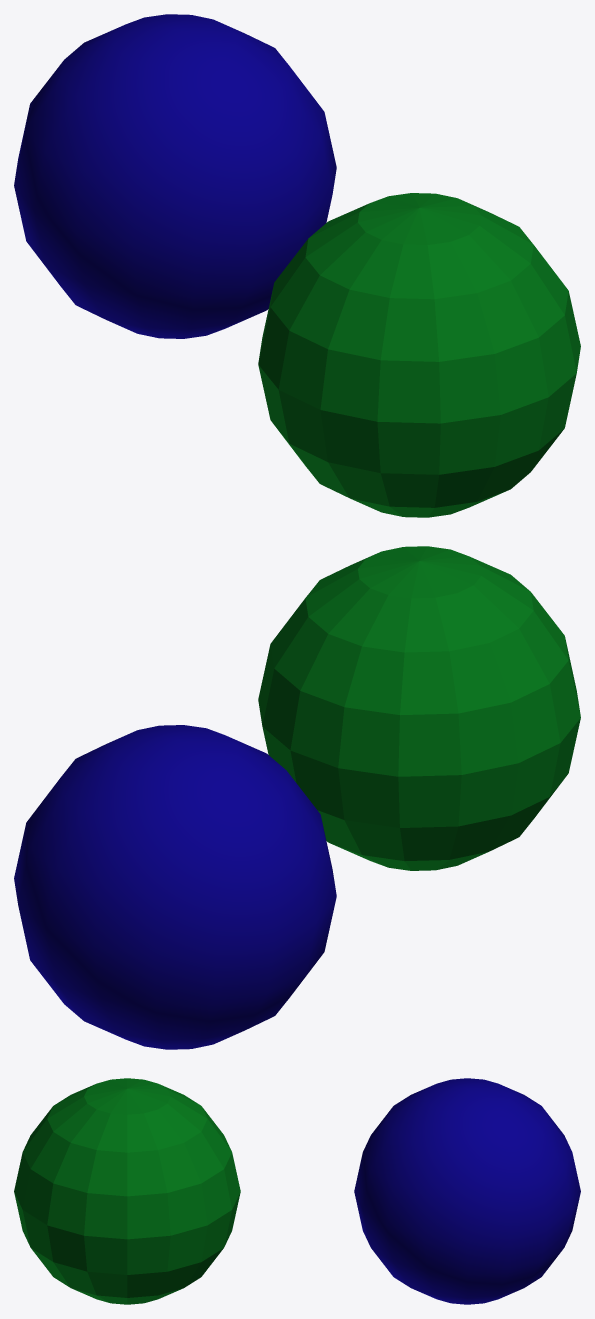
Rendered from smoothAndFlatSpheres.glb.
3 renders of one model, top to bottom at view 1: azimuth 30°, elevation 25°; view 2: azimuth 150°, elevation 25°; view 3: azimuth 270°, elevation 25°, orthographic. The views are drawn at different scales.
Parts seen in each view (by area): view 1: Sphere.001, Sphere; view 2: Sphere, Sphere.001; view 3: Sphere, Sphere.001.
Part boxes in pixels (x1,y1,x2,y2): Sphere.001: [258, 193, 580, 517]; Sphere: [14, 14, 336, 338]; Sphere: [14, 725, 336, 1049]; Sphere.001: [258, 546, 580, 870]; Sphere: [354, 1078, 580, 1304]; Sphere.001: [14, 1078, 240, 1304].
Size of the model in its own units: 2 by 2 by 5.
